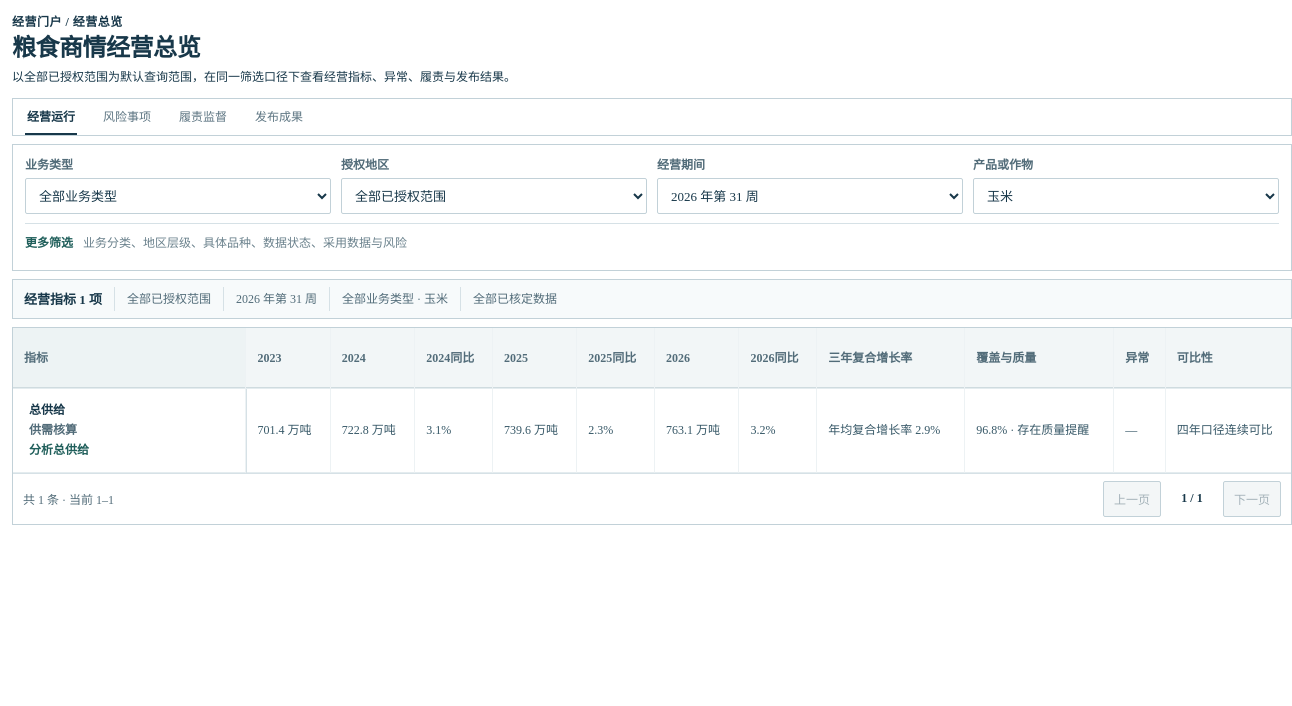
Test: enterprise portal workspaces › keeps domain and cascading region-level filters URL-owned without fallback
Select "市场监测" in the dropdown labelled "业务类型" at (178, 196), box [25,178,331,214]
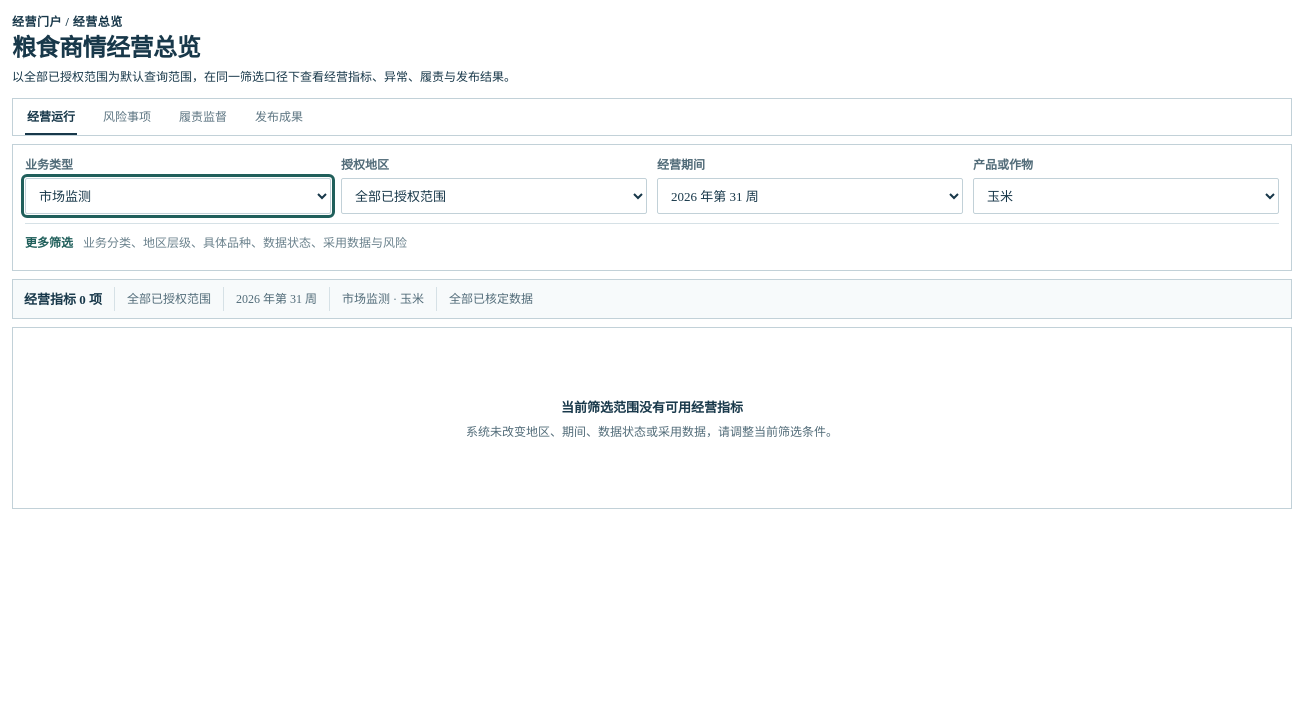
Expected: the button "分析采购价" is not shown
Result: the text "当前筛选范围没有可用经营指标" is shown at [561,400,743,415]
Select "齐齐哈尔市全域" in the dropdown labelled "授权地区" at (494, 196), box [341,178,647,214]
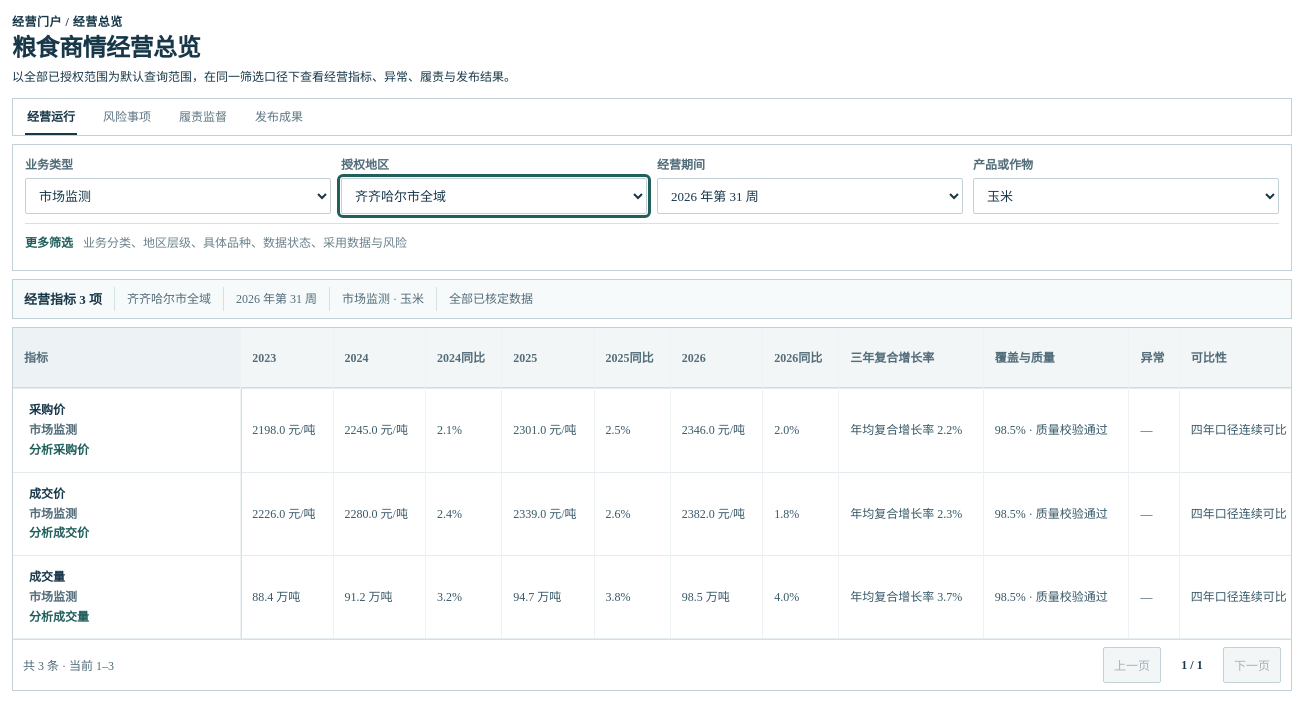
Result: the button "采购价 市场监测 分析采购价" is shown at [24,398,229,463]
Click the text "更多筛选".
click(49, 242)  # box [25,233,73,251]
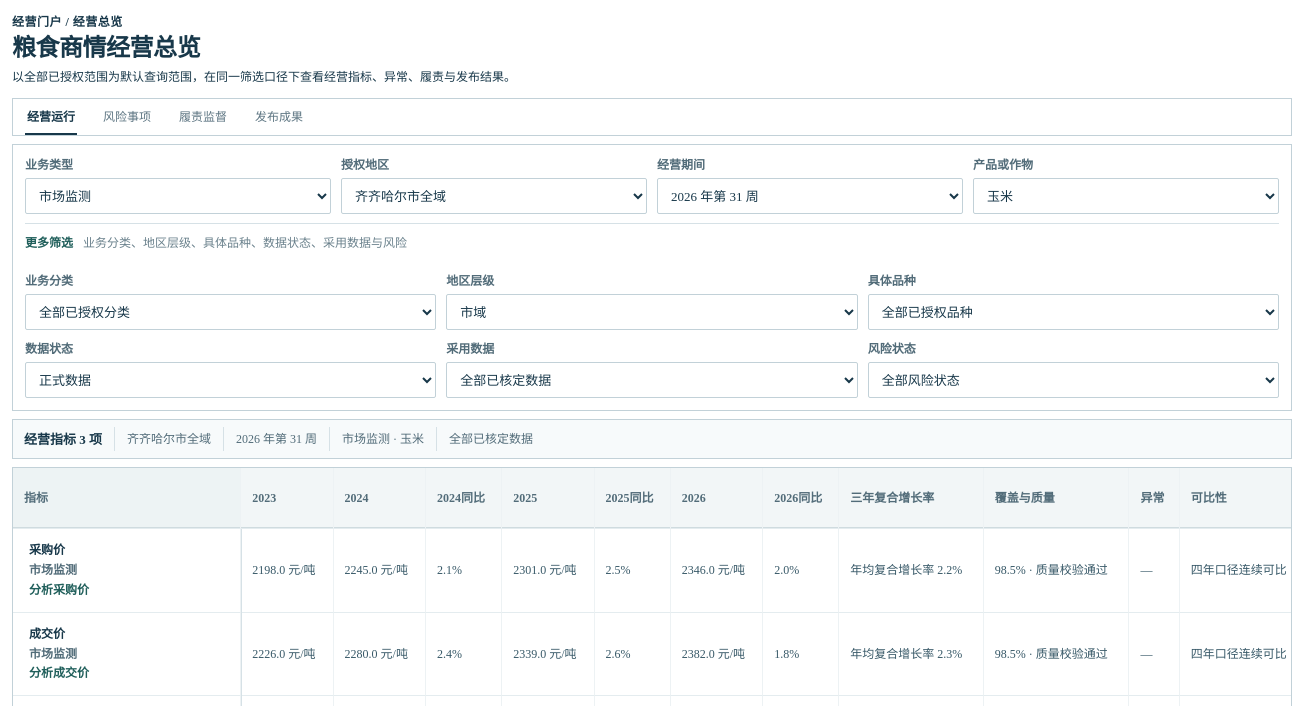
Select "区县" in the dropdown labelled "地区层级" at (652, 312), box [446,294,858,330]
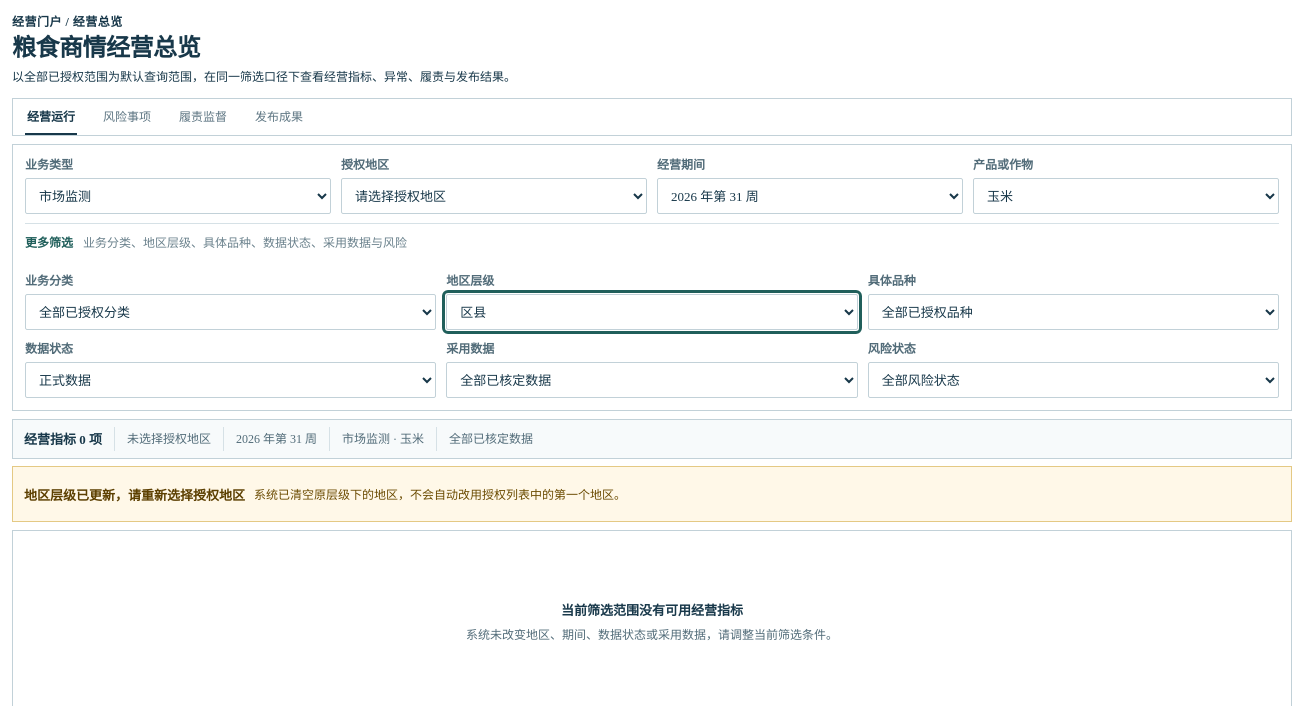
Result: the message "地区层级已更新，请重新选择授权地区 系统已清空原层级下的地区，不会自动改用授权列表中的第一个地区。" is shown at [12,466,1291,522]
Result: the text "当前筛选范围没有可用经营指标" is shown at [561,603,743,618]
